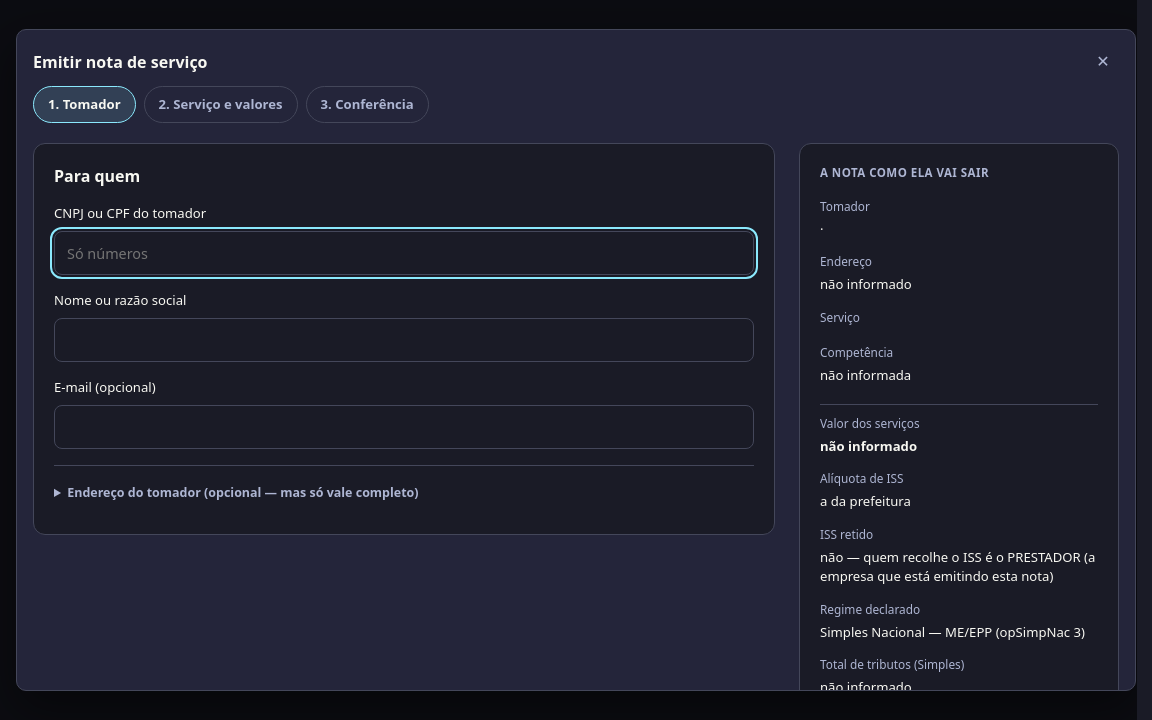
Test case: 1) o espelho reage a cada tecla › o nome digitado aparece no espelho sem apertar nada
Type "ACME" into the field labelled "Nome ou razão social" at (404, 340), box [54,318,754,362]
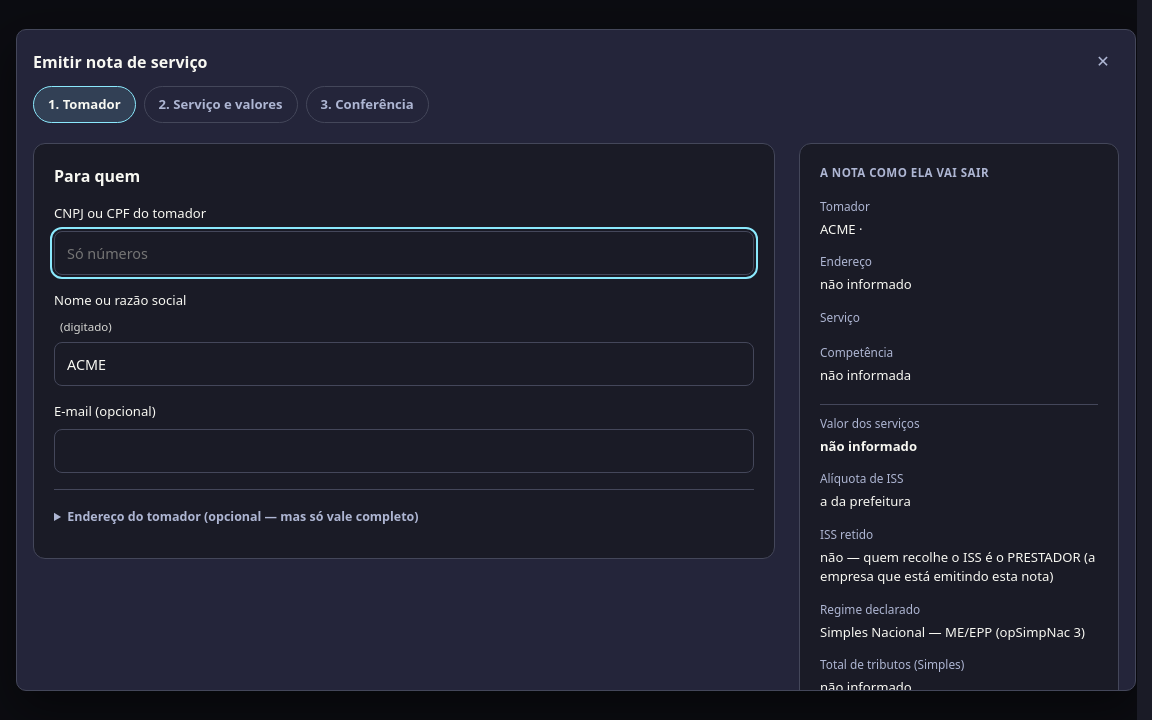
Now the text "ACME ·" is shown, box [820,220,870,239]
Replace the text in the field labelled "Nome ou razão social" with "ACME LTDA" at (404, 364), box [54,342,754,386]
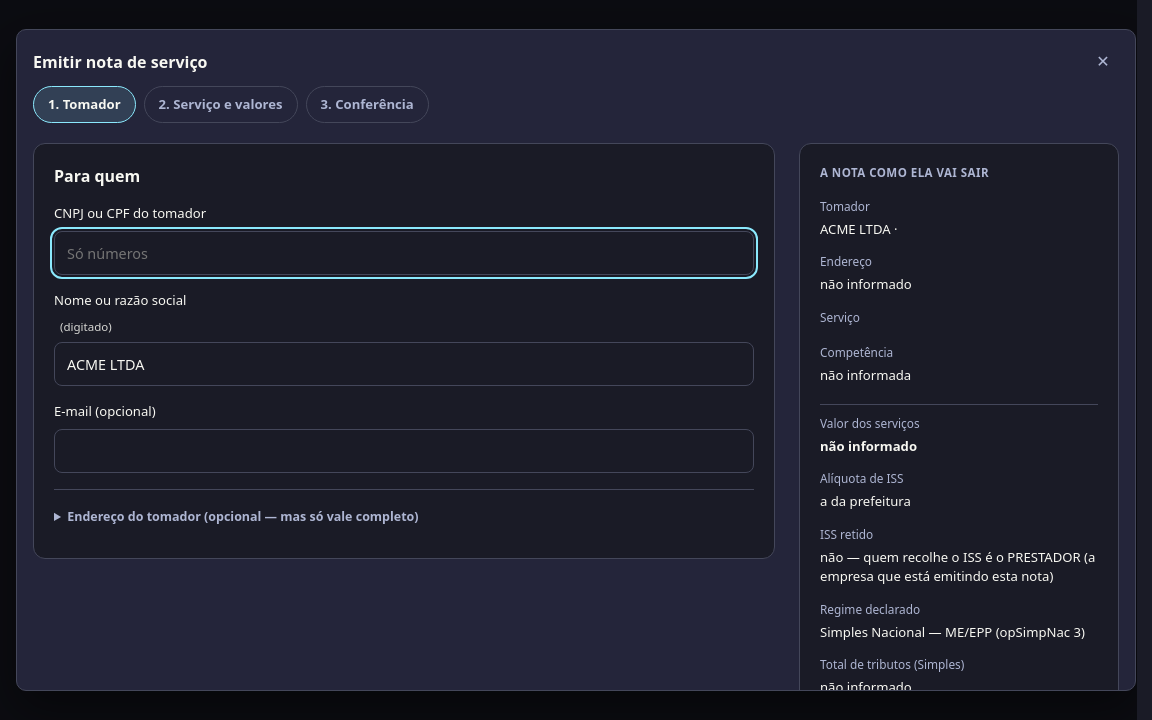
Now the text "ACME LTDA ·" is shown, box [820,220,898,239]
